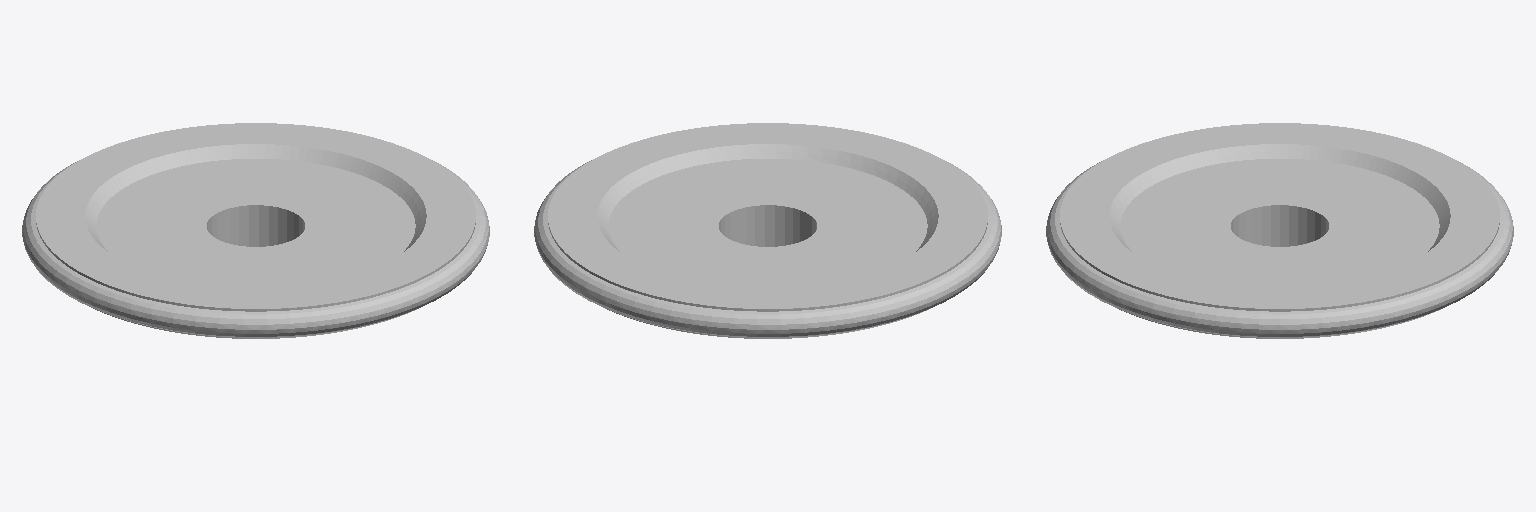
File: IRIDIAepuck3D_Nov2019_RightWheel.obj
3 views of the same model, side by side, from view 1: azimuth 30°, elevation 25°; view 2: azimuth 150°, elevation 25°; view 3: azimuth 270°, elevation 25° (orthographic).
Visible parts, largest first — view 1: brep_1; view 2: brep_1; view 3: brep_1.
Boxes of the visible parts, <box> form: brep_1: <box>22,123,489,338</box>; brep_1: <box>534,123,1001,338</box>; brep_1: <box>1046,123,1513,338</box>.
Bounding box in the file's own units: 0.0425 × 0.008 × 0.0425.